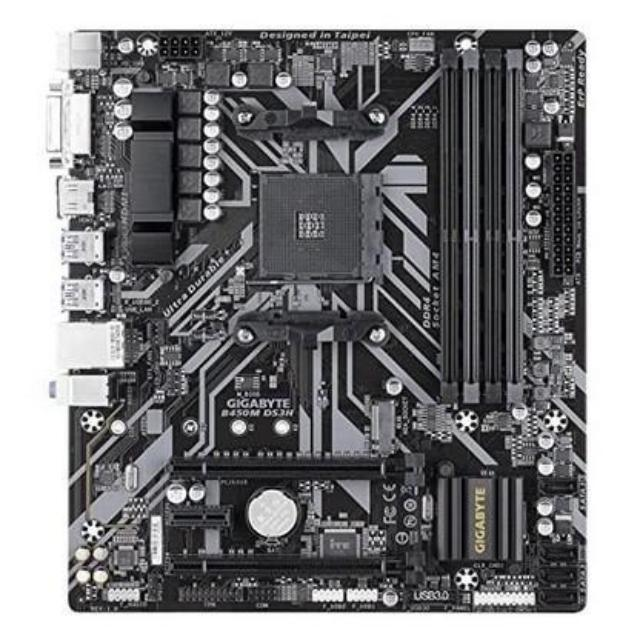Mainboard: (48, 12, 608, 626)
